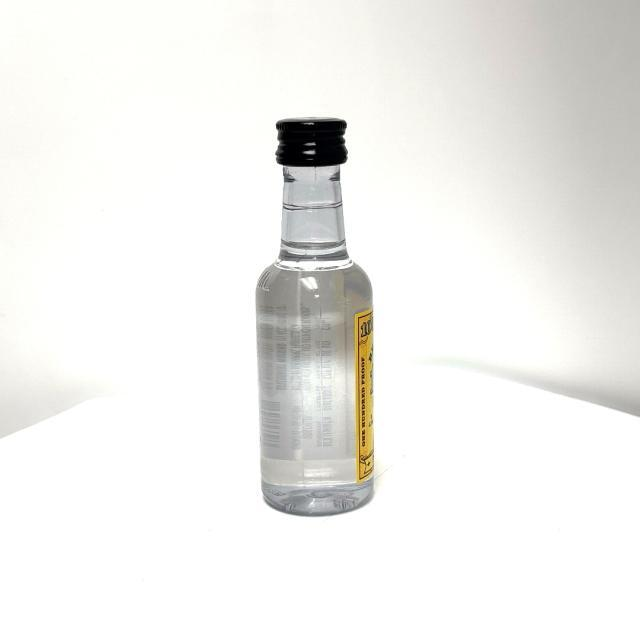BENJAMINS PINEAPPLE 50ML: (248, 112, 387, 522)
